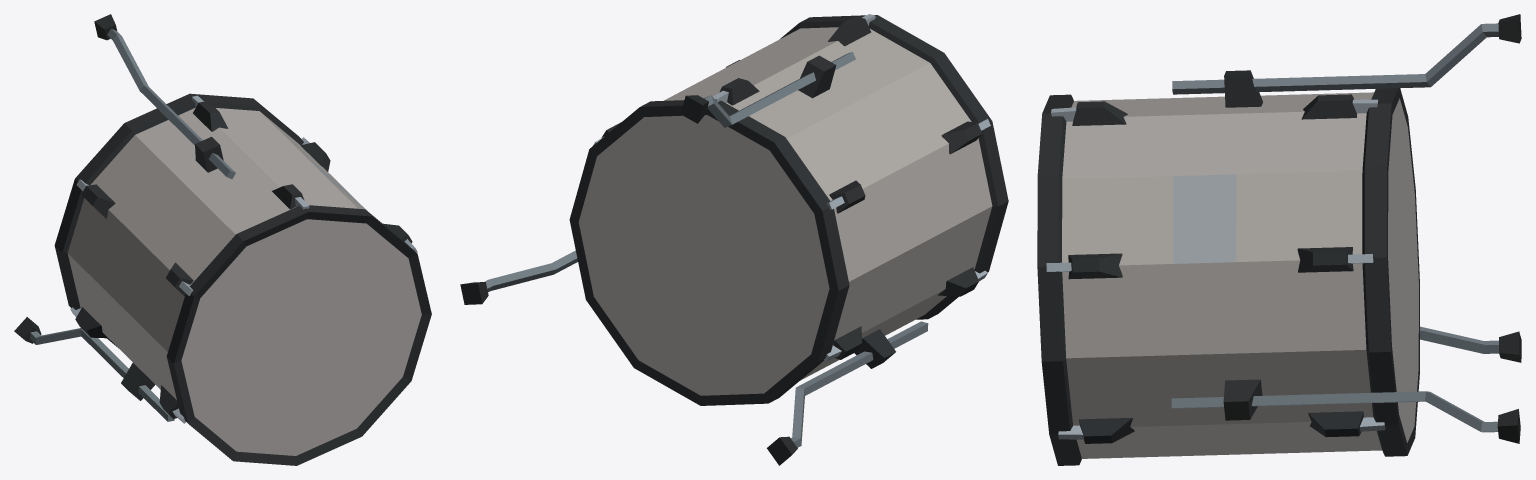
The model's file is SM_Prop_Music_Drums_Kit_01_Seat_01_Part_01.232.obj.
3 views of the same model, side by side, from view 1: azimuth 30°, elevation 25°; view 2: azimuth 150°, elevation 25°; view 3: azimuth 270°, elevation 25° (orthographic). The views are drawn at different scales.
Visible parts, largest first — view 1: SM_Prop_Music_Drums_Kit_01_Seat_01_Part_01.232_0; view 2: SM_Prop_Music_Drums_Kit_01_Seat_01_Part_01.232_0; view 3: SM_Prop_Music_Drums_Kit_01_Seat_01_Part_01.232_0.
Boxes of the visible parts, left/top/right/bottom form: SM_Prop_Music_Drums_Kit_01_Seat_01_Part_01.232_0: left=14, top=14, right=431, bottom=465; SM_Prop_Music_Drums_Kit_01_Seat_01_Part_01.232_0: left=460, top=14, right=1008, bottom=465; SM_Prop_Music_Drums_Kit_01_Seat_01_Part_01.232_0: left=1037, top=14, right=1521, bottom=465.
Size of the model in its own units: 66.83 by 67.61 by 69.38.
1 material, 1 textured.
